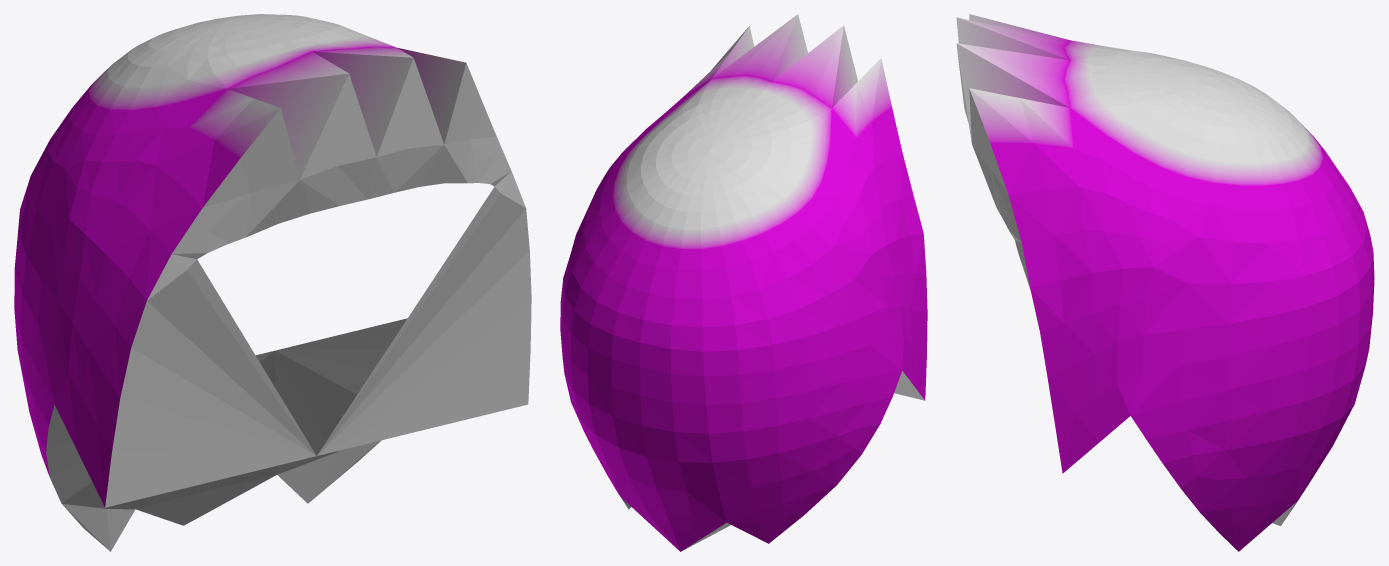
File: hair_39.glb
3 views of the same model, side by side, from view 1: azimuth 30°, elevation 25°; view 2: azimuth 150°, elevation 25°; view 3: azimuth 270°, elevation 25° (orthographic). The views are drawn at different scales.
Parts seen in each view (by area): view 1: shape; view 2: shape; view 3: shape.
Boxes of the visible parts, box(x1,y1,x2,y2) form: shape: box(14, 14, 531, 551); shape: box(560, 14, 927, 551); shape: box(956, 14, 1374, 551).
Bounding box in the file's own units: 55.28 × 72.4 × 55.31.
